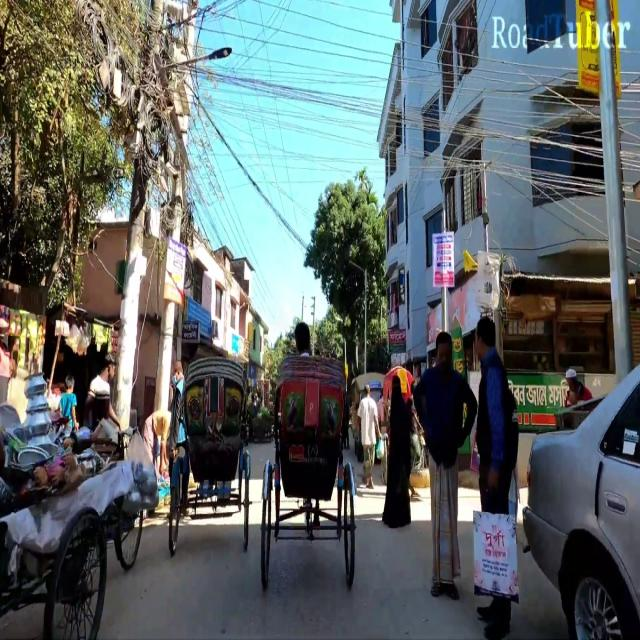silver: (528, 348, 640, 639)
